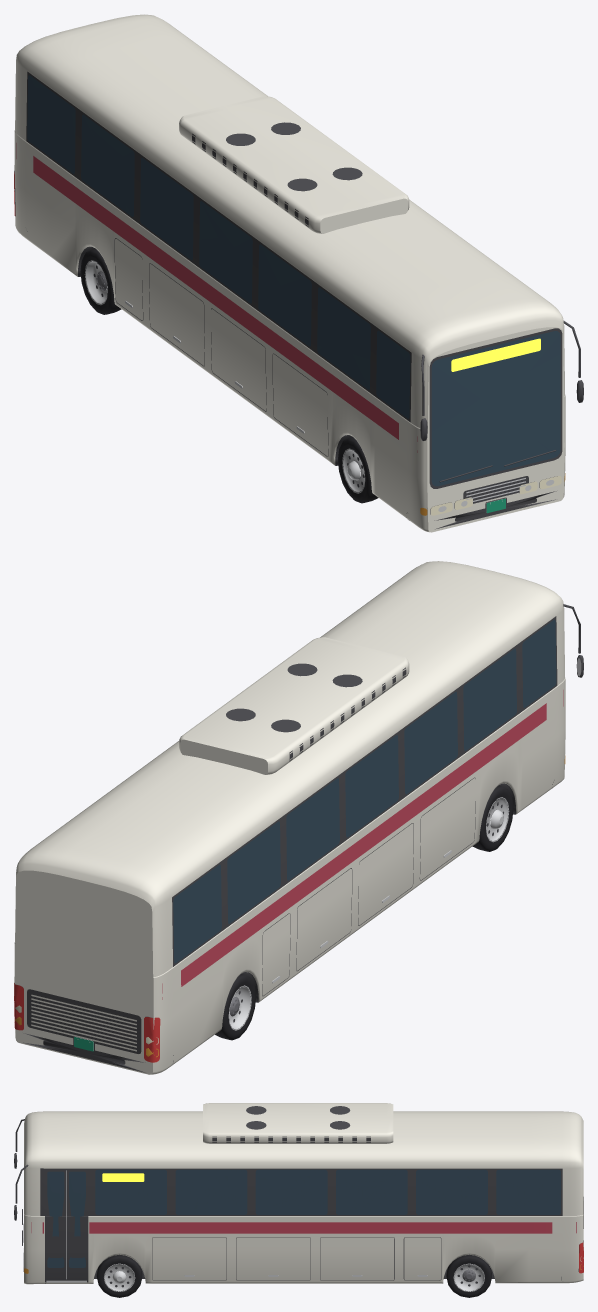
The model's file is 365_close.fbx.
3 renders of one model, top to bottom at view 1: azimuth 30°, elevation 25°; view 2: azimuth 150°, elevation 25°; view 3: azimuth 270°, elevation 25°, orthographic. The views are drawn at different scales.
Parts seen in each view (by area): view 1: 365_close; view 2: 365_close; view 3: 365_close.
Part boxes in pixels (x1=…): 365_close: x1=14, y1=14, x2=583, y2=532; 365_close: x1=14, y1=561, x2=583, y2=1074; 365_close: x1=14, y1=1103, x2=583, y2=1297.
Bounding box in the file's own units: 2.73 × 3.71 × 12.23.
